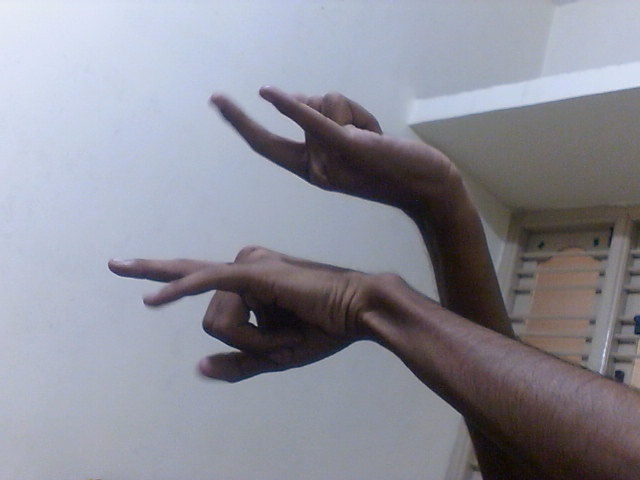hand: (107, 242, 379, 388), (207, 81, 459, 221)
